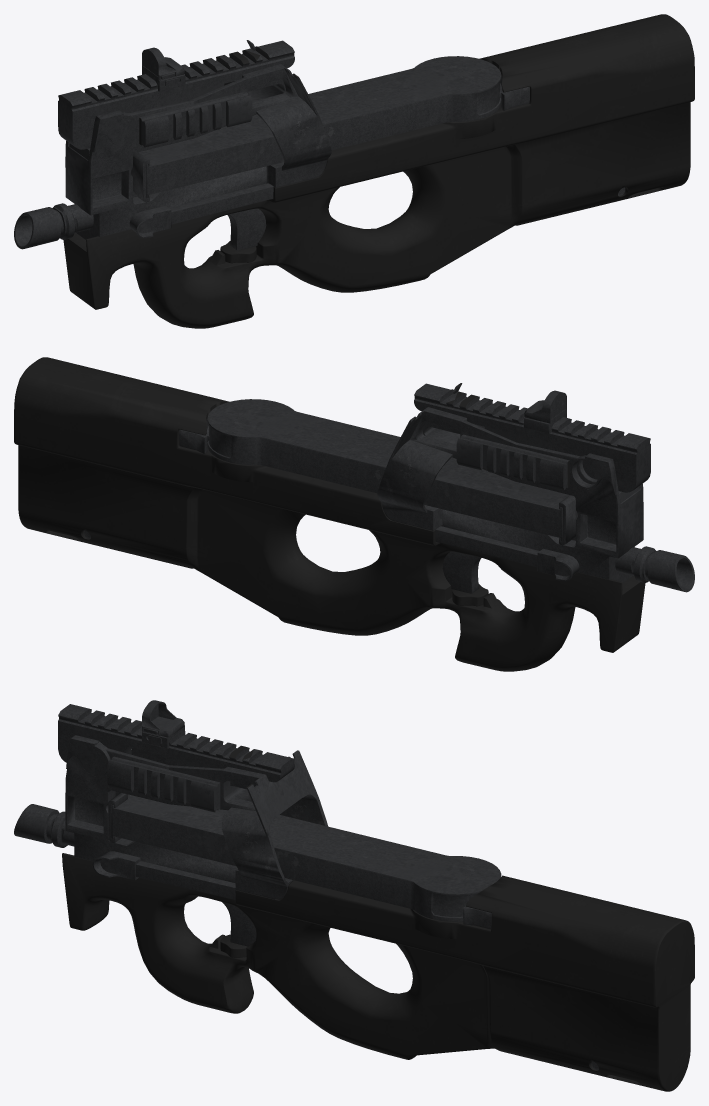
3 views of the same model, one above another, from view 1: azimuth 30°, elevation 25°; view 2: azimuth 150°, elevation 25°; view 3: azimuth 330°, elevation 25° (orthographic).
Parts seen in each view (by area): view 1: p90; view 2: p90; view 3: p90.
Part boxes in pixels (bbox=[...]): p90: bbox=[14, 14, 694, 328]; p90: bbox=[14, 357, 694, 671]; p90: bbox=[14, 700, 694, 1091].
Bounding box in the file's own units: 0.5 × 0.212 × 0.0682.
2 materials, 2 textured.
